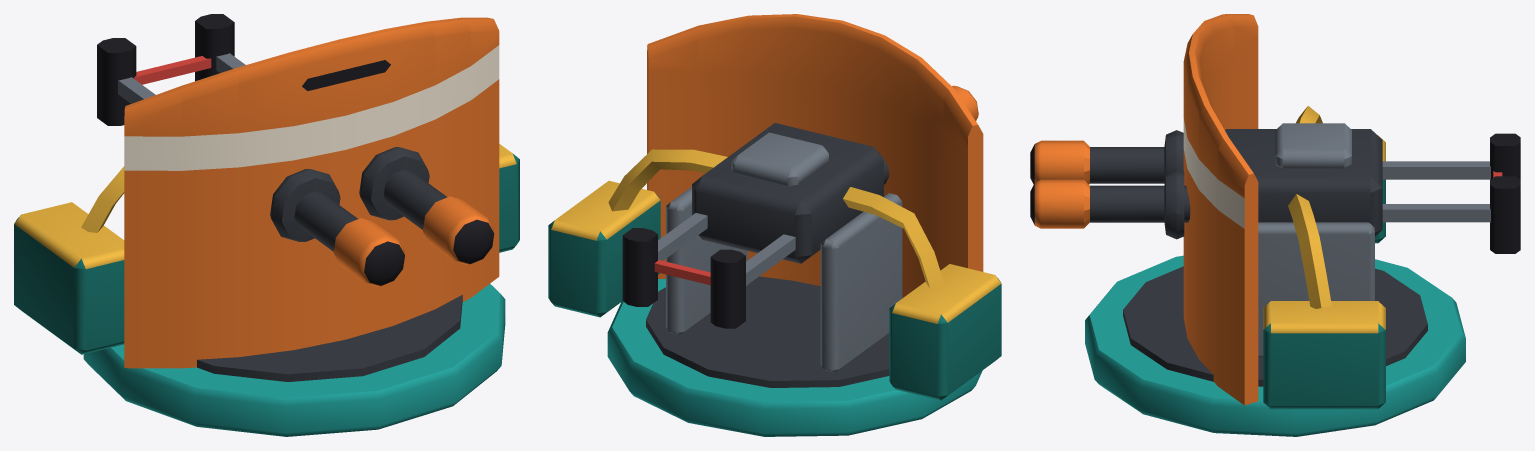
The model's file is TorretaCanones.fbx.
3 renders of one model, left to right at view 1: azimuth 30°, elevation 25°; view 2: azimuth 150°, elevation 25°; view 3: azimuth 270°, elevation 25°, orthographic. The views are drawn at different scales.
Parts seen in each view (by area): view 1: TorretaCanones; view 2: TorretaCanones; view 3: TorretaCanones.
Part boxes in pixels (x1,y1,x2,y2): TorretaCanones: (14,14,519,436); TorretaCanones: (548,14,1001,436); TorretaCanones: (1030,14,1520,436).
Size of the model in its own units: 3 by 2.2 by 3.2.
1 material, 1 textured.
